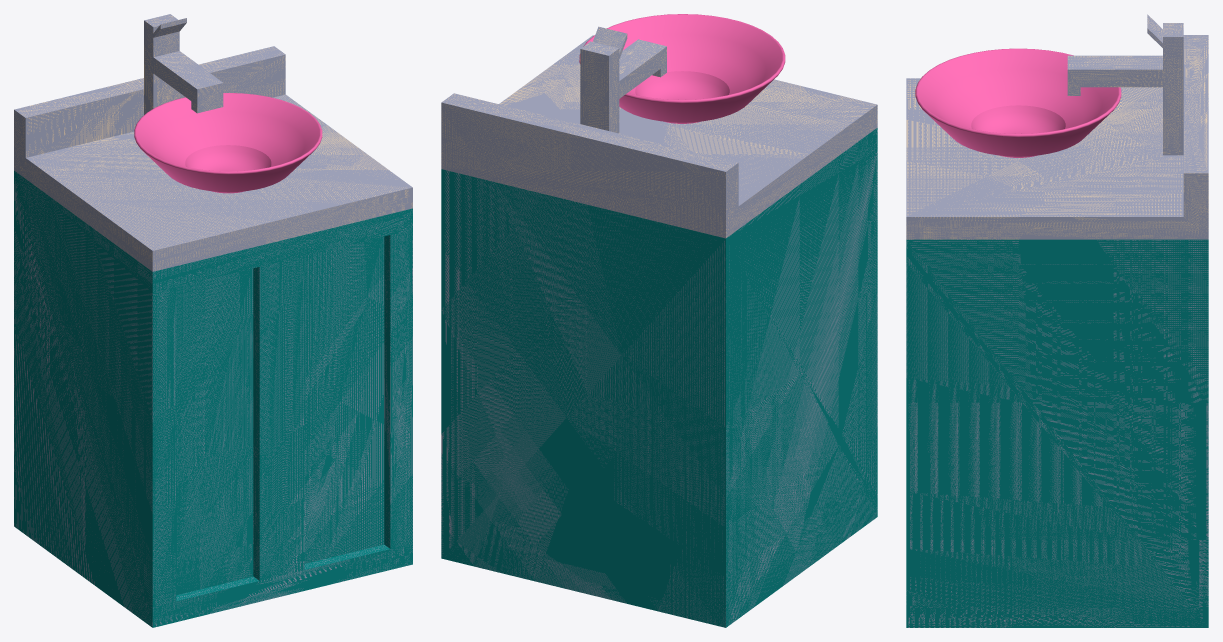
The model's file is sink.fbx.
3 views of the same model, side by side, from view 1: azimuth 30°, elevation 25°; view 2: azimuth 150°, elevation 25°; view 3: azimuth 270°, elevation 25° (orthographic). The views are drawn at different scales.
Visible parts, largest first — view 1: Model, d; view 2: Model, d; view 3: Model, d.
Boxes of the visible parts, x1=… form: Model: x1=14, y1=14, x2=412, y2=627; d: x1=134, y1=93, x2=322, y2=193; Model: x1=441, y1=26, x2=877, y2=627; d: x1=579, y1=14, x2=785, y2=123; Model: x1=906, y1=14, x2=1208, y2=627; d: x1=915, y1=48, x2=1121, y2=157.
Size of the model in its own units: 26 by 47.16 by 24.
